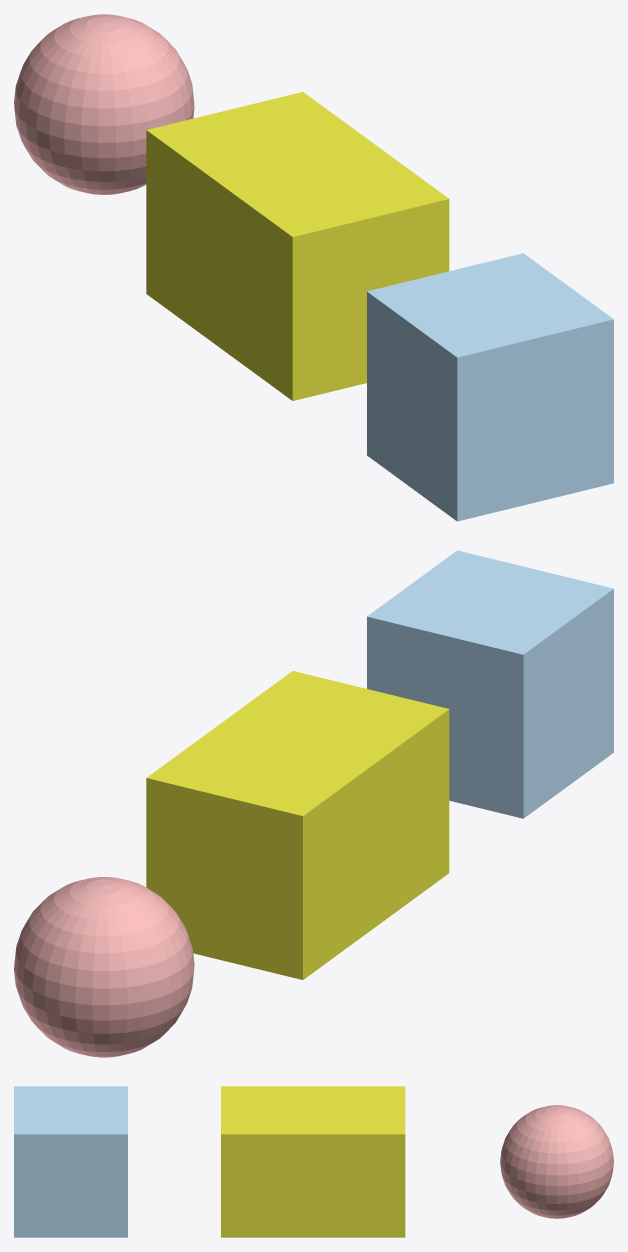
3 renders of one model, top to bottom at view 1: azimuth 30°, elevation 25°; view 2: azimuth 150°, elevation 25°; view 3: azimuth 270°, elevation 25°, orthographic. The views are drawn at different scales.
Visible parts, largest first — view 1: rectangle, cube, sphere; view 2: rectangle, cube, sphere; view 3: rectangle, cube, sphere.
Boxes of the visible parts, <box> form: rectangle: <box>146,92,449,400</box>; cube: <box>367,253,613,521</box>; sphere: <box>14,14,194,194</box>; rectangle: <box>146,671,449,979</box>; cube: <box>367,550,613,818</box>; sphere: <box>14,877,194,1057</box>; rectangle: <box>221,1086,405,1237</box>; cube: <box>14,1086,127,1237</box>; sphere: <box>500,1105,613,1218</box>.
Size of the model in its own units: 2 by 2 by 10.54.
